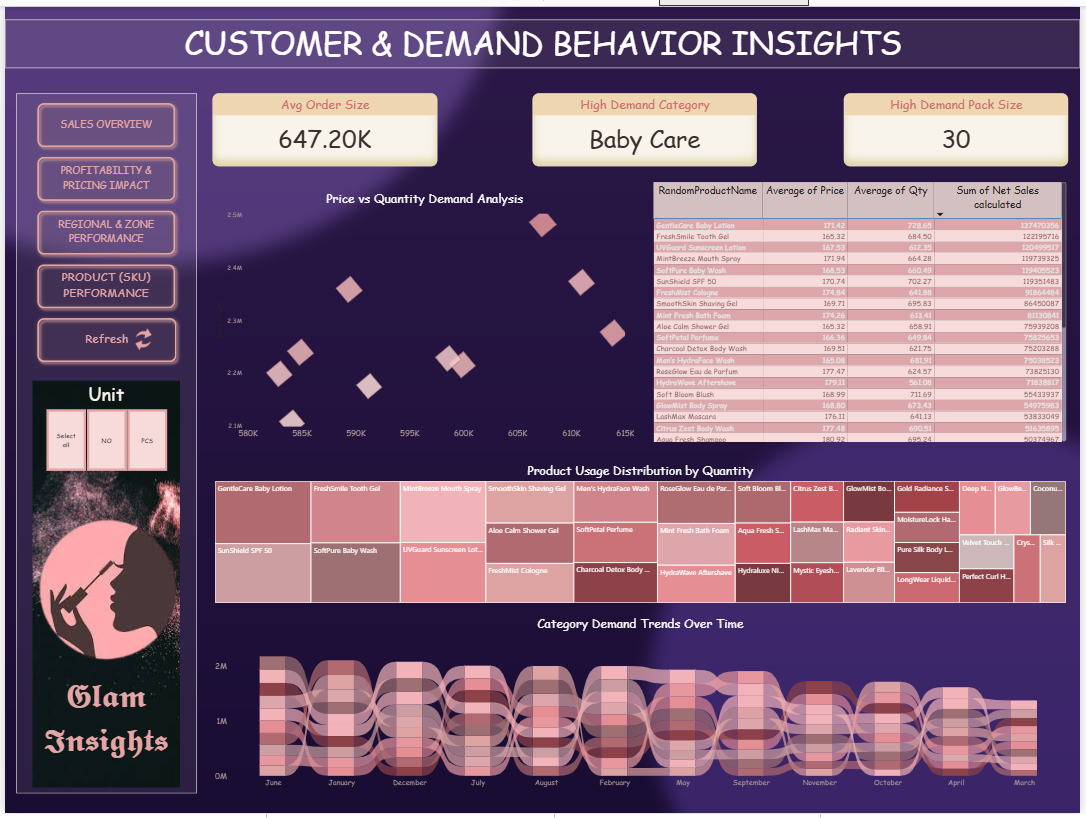

The page's visual inventory and layout, read from the dashboard file:
{"tool":"powerbi","page":{"name":"CUSTOMER & DEMAND BEHAVIOR INSIGHTS","canvas":[2000,1500],"ordinal":4},"visuals":[{"type":"textbox","title":"CUSTOMER & DEMAND BEHAVIOR INSIGHTS","box":[0,22.5,2000,90],"z":0},{"type":"shape","box":[20.5,161.5,335.9,1302.6],"z":1000},{"type":"actionButton","box":[51.3,169.2,274.4,100],"z":2000},{"type":"actionButton","box":[51.3,369.2,274.4,100],"z":3000},{"type":"actionButton","box":[51.3,269.2,274.4,100],"z":4000},{"type":"actionButton","box":[51.3,469.2,274.4,100],"z":5000},{"type":"image","box":[51.3,694.9,274.4,756.4],"z":6000},{"type":"image","box":[51.3,892.3,274.4,361.5],"z":7000},{"type":"slicer","title":"Unit","fields":{"Values":["Cosmetic_products_sales (1).Unit"]},"box":[51.3,694.9,274.4,174.4],"z":8000},{"type":"textbox","box":[51.3,1235.9,274.4,192.3],"z":9000},{"type":"actionButton","box":[51.3,569.2,276.9,100],"z":10000},{"type":"image","box":[215.4,597.4,82.1,41],"z":11000},{"type":"scatterChart","title":"Price vs Quantity Demand Analysis","fields":{"X":["Sum(Cosmetic_products_sales (1).Price)"],"Y":["Sum(Cosmetic_products_sales (1).Qty)"],"Size":["Sum(Cosmetic_products_sales (1).Net Sales calculated)"],"Series":["Cosmetic_products_sales (1).RandomCategory"]},"box":[387.2,338.5,789.7,474.4],"z":12000},{"type":"ribbonChart","title":"Category Demand Trends Over Time","fields":{"Category":["Cosmetic_products_sales (1).Month Name"],"Series":["Cosmetic_products_sales (1).RandomCategory"],"Y":["Page 1 — SALES OVERVIEW (KPI & visuals).Total Qty"]},"box":[387.2,1130.8,1592.3,333.3],"z":13000},{"type":"treemap","title":"Product Usage Distribution by Quantity","fields":{"Group":["Cosmetic_products_sales (1).RandomProductName"],"Values":["Page 1 — SALES OVERVIEW (KPI & visuals).Total Qty"]},"box":[387.2,846.2,1592.3,266.7],"z":14000},{"type":"tableEx","title":"Low Price – High Demand Products","fields":{"Values":["Cosmetic_products_sales (1).RandomProductName","Avg(Cosmetic_products_sales (1).Price)","Avg(Cosmetic_products_sales (1).Qty)","Sum(Cosmetic_products_sales (1).Net Sales calculated)"]},"box":[1200,320.5,779.5,492.3],"z":15000},{"type":"card","title":"Avg Order Size","fields":{"Values":["Page 5 — FORECASTING & ADVANCED INSIGHTS.Avg Order Size"]},"box":[387.2,161.5,418,135.9],"z":16000},{"type":"card","title":"High Demand Category","fields":{"Values":["Page 5 — FORECASTING & ADVANCED INSIGHTS.High Demand Category"]},"box":[982.1,161.5,417.9,135.9],"z":17000},{"type":"card","title":"High Demand Pack Size","fields":{"Values":["Page 5 — FORECASTING & ADVANCED INSIGHTS.High Demand Pack Size"]},"box":[1561.5,161.5,417.9,135.9],"z":18000}]}

Visuals, with their boxes in screenshot pixels (x1, y1, x2, y2), scaled from the page's 2000x1500 canvas onto the 1086x818 screenshot:
"CUSTOMER & DEMAND BEHAVIOR INSIGHTS" textbox: 0 12 1085 61
shape: 11 88 194 798
actionButton: 28 92 177 147
actionButton: 28 201 177 256
actionButton: 28 147 177 201
actionButton: 28 256 177 310
image: 28 379 177 791
image: 28 487 177 684
"Unit" slicer: 28 379 177 474
textbox: 28 674 177 779
actionButton: 28 310 178 365
image: 117 326 162 348
"Price vs Quantity Demand Analysis" scatterChart: 210 185 639 443
"Category Demand Trends Over Time" ribbonChart: 210 617 1075 798
"Product Usage Distribution by Quantity" treemap: 210 461 1075 607
"Low Price – High Demand Products" tableEx: 652 175 1075 443
"Avg Order Size" card: 210 88 437 162
"High Demand Category" card: 533 88 760 162
"High Demand Pack Size" card: 848 88 1075 162
